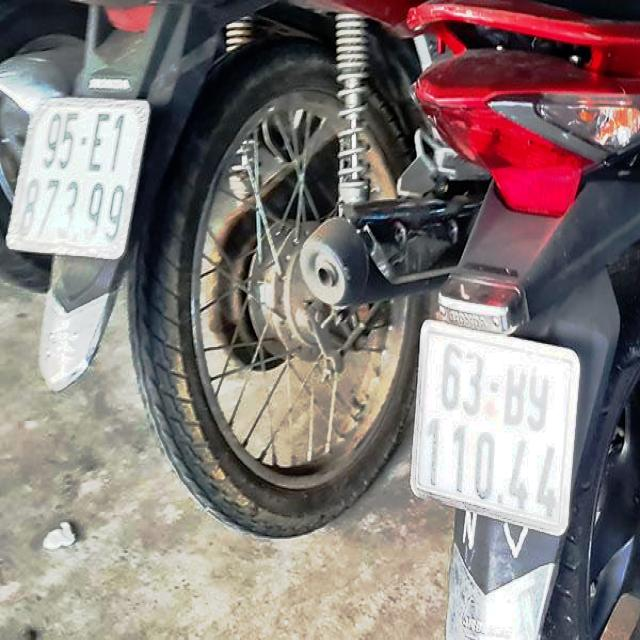license_plate: (416, 323, 578, 530), (11, 98, 148, 259)
